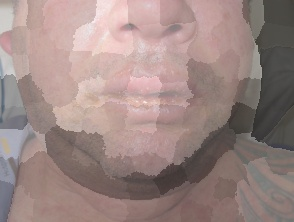SJS-TEN: (90, 64, 199, 113)
